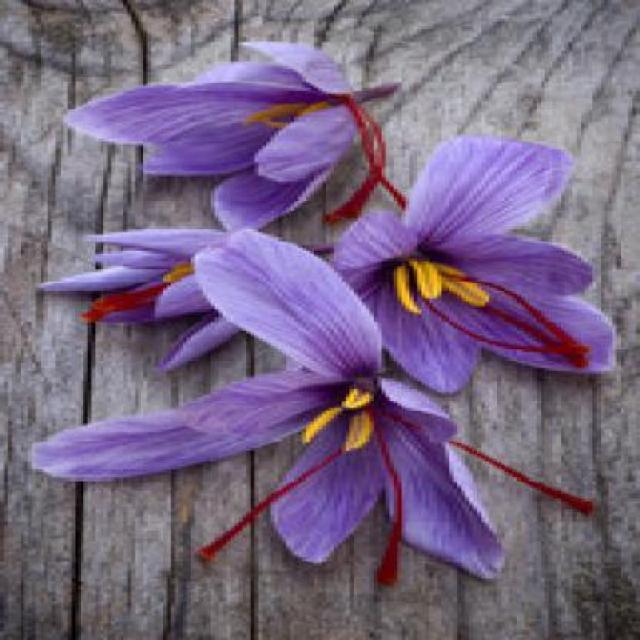Flower: (18, 234, 510, 586), (346, 132, 612, 383), (54, 31, 412, 217), (48, 218, 332, 353)
stigma: (196, 444, 348, 570), (438, 272, 594, 372), (443, 438, 600, 518), (419, 295, 594, 359), (320, 93, 390, 226), (335, 95, 412, 213), (365, 409, 407, 586), (75, 284, 161, 325)
